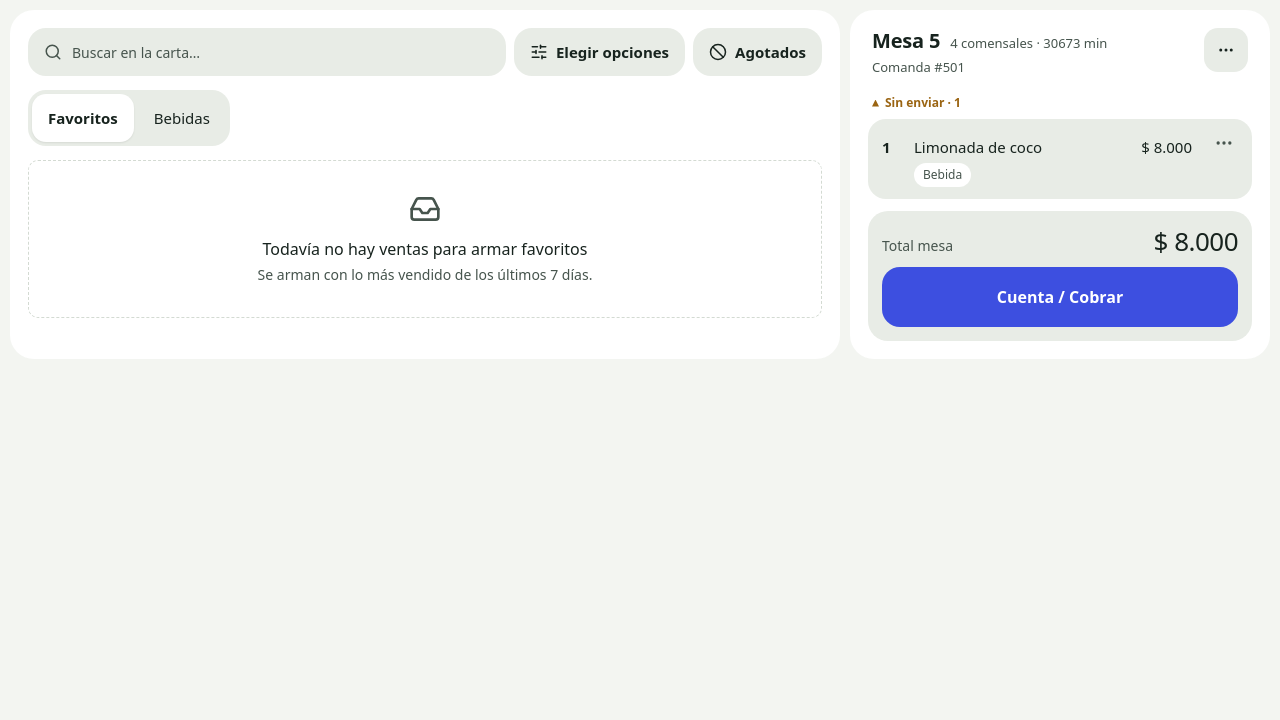
Test case: OrderPage › 409 STALE_VERSION reemplaza la comanda local y avisa a la persona
Expected: the text "Limonada de coco" is shown, [914, 137, 1042, 157]
Click the button named "limonada de coco: acciones".
click(1224, 143)  # box [1202, 121, 1246, 165]
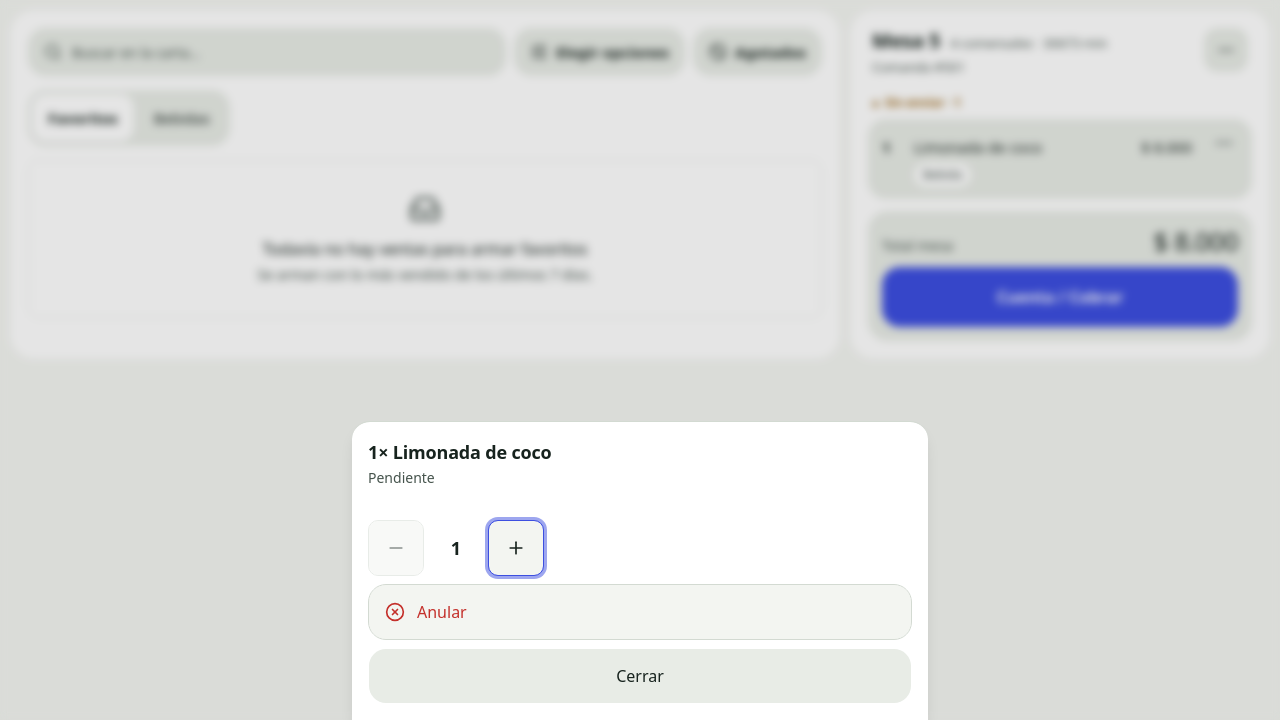
Click the button with aria-label "anular limonada de coco".
click(442, 612)  # box [368, 584, 912, 640]
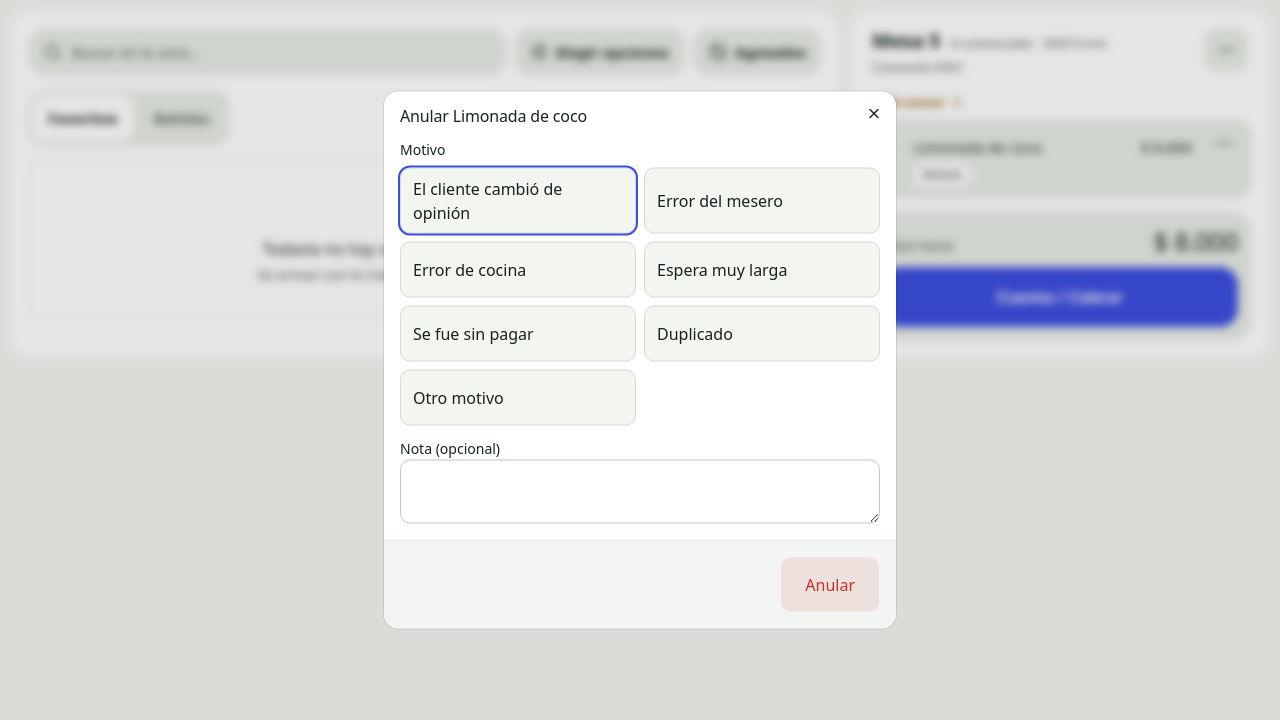
Click the radio button labelled "El cliente cambió de opinión".
click(518, 200)  # box [400, 168, 636, 234]
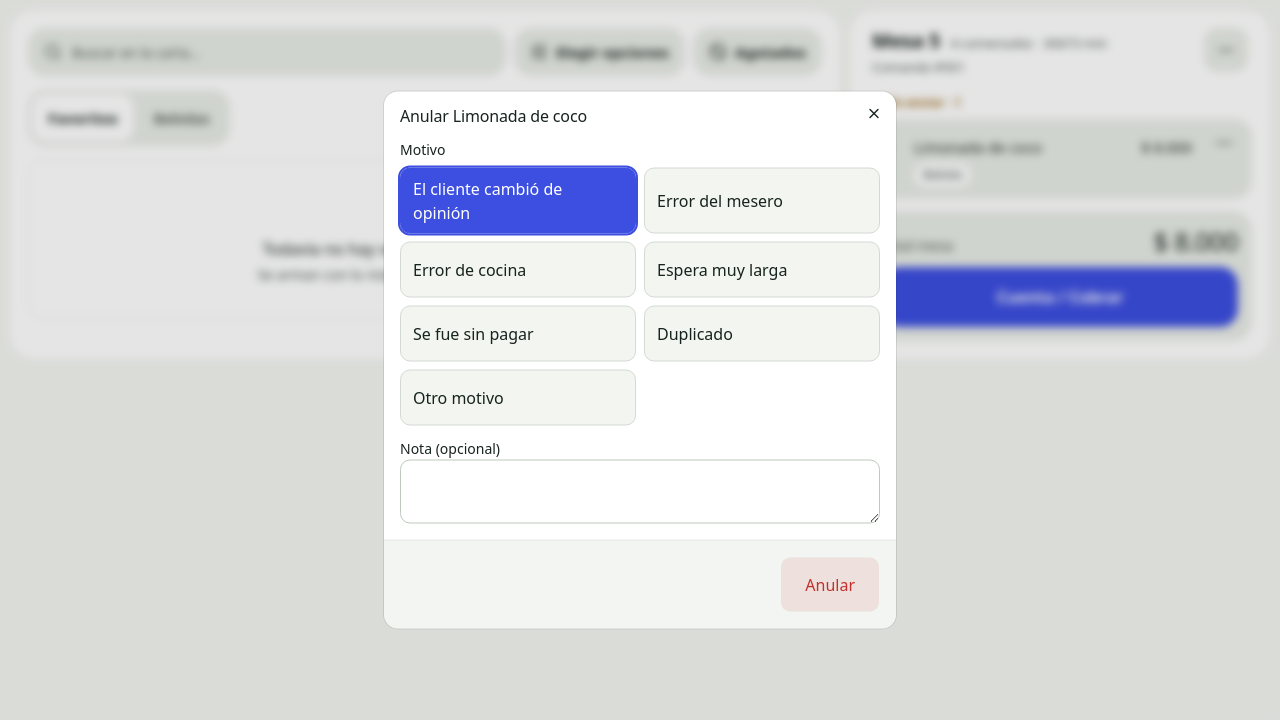
Click the button "Anular".
click(830, 584)  # box [780, 556, 880, 612]
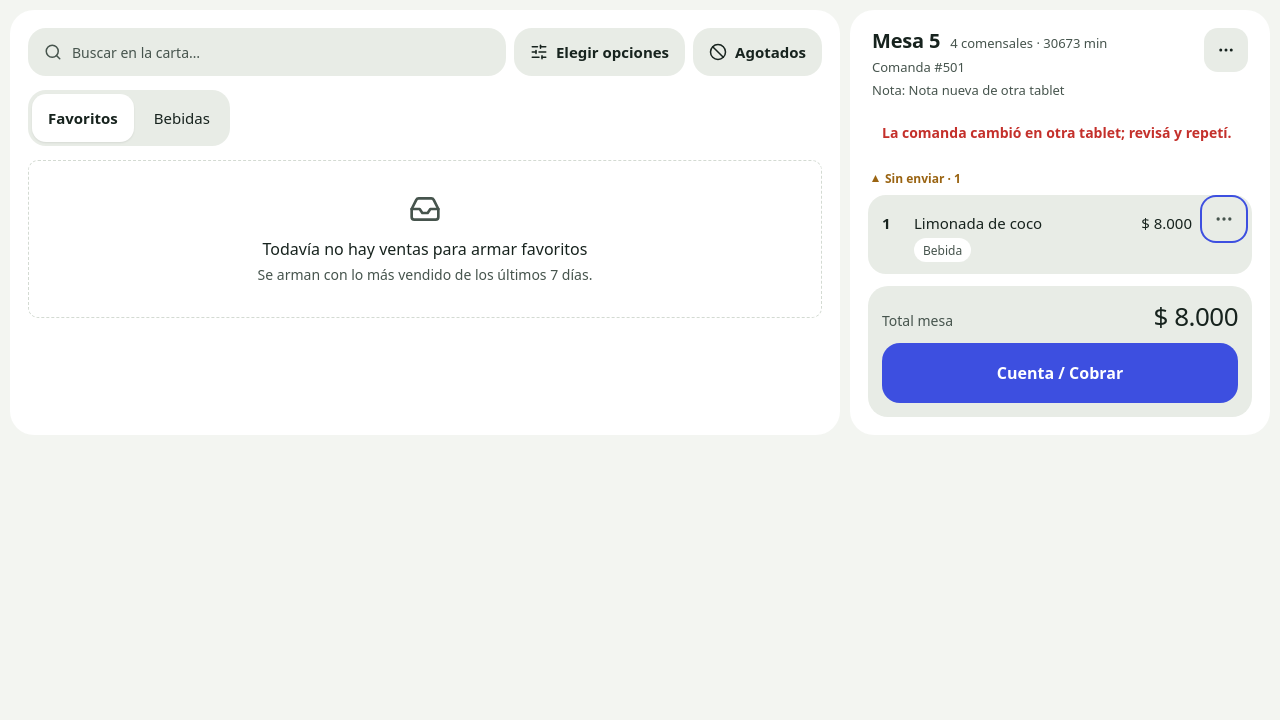
Expected: the message "La comanda cambió en otra tablet; revisá y repetí." is shown, [882, 122, 1232, 142]
Expected: the text "Nota: Nota nueva de otra tablet" is shown, [872, 81, 1064, 99]
